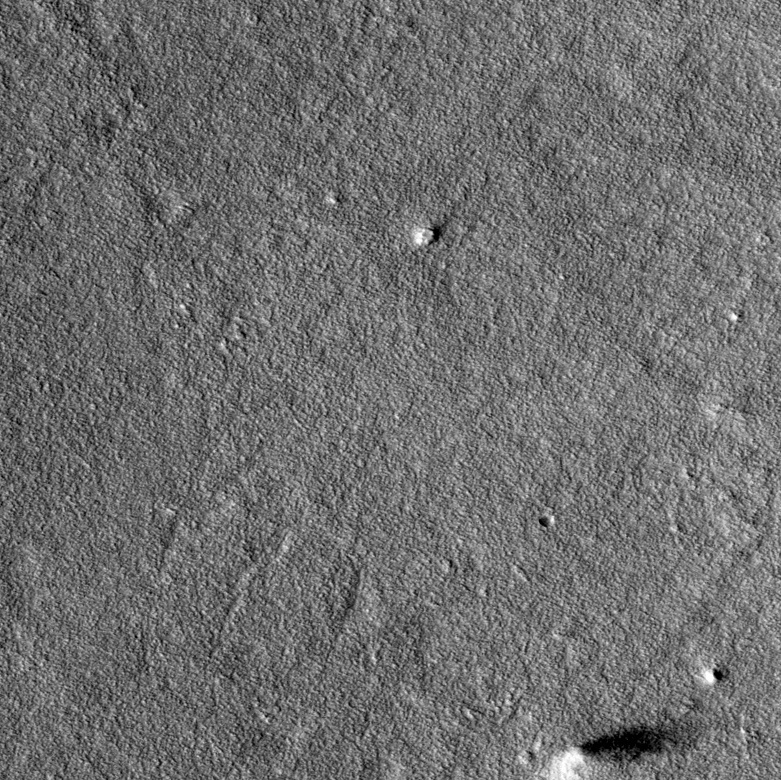dust_devil: (545, 722, 676, 780)
